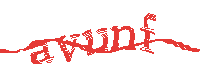a: (27, 39, 55, 65)
f: (139, 11, 158, 55)
n: (111, 23, 136, 54)
u: (82, 21, 111, 58)
v: (54, 30, 81, 66)
